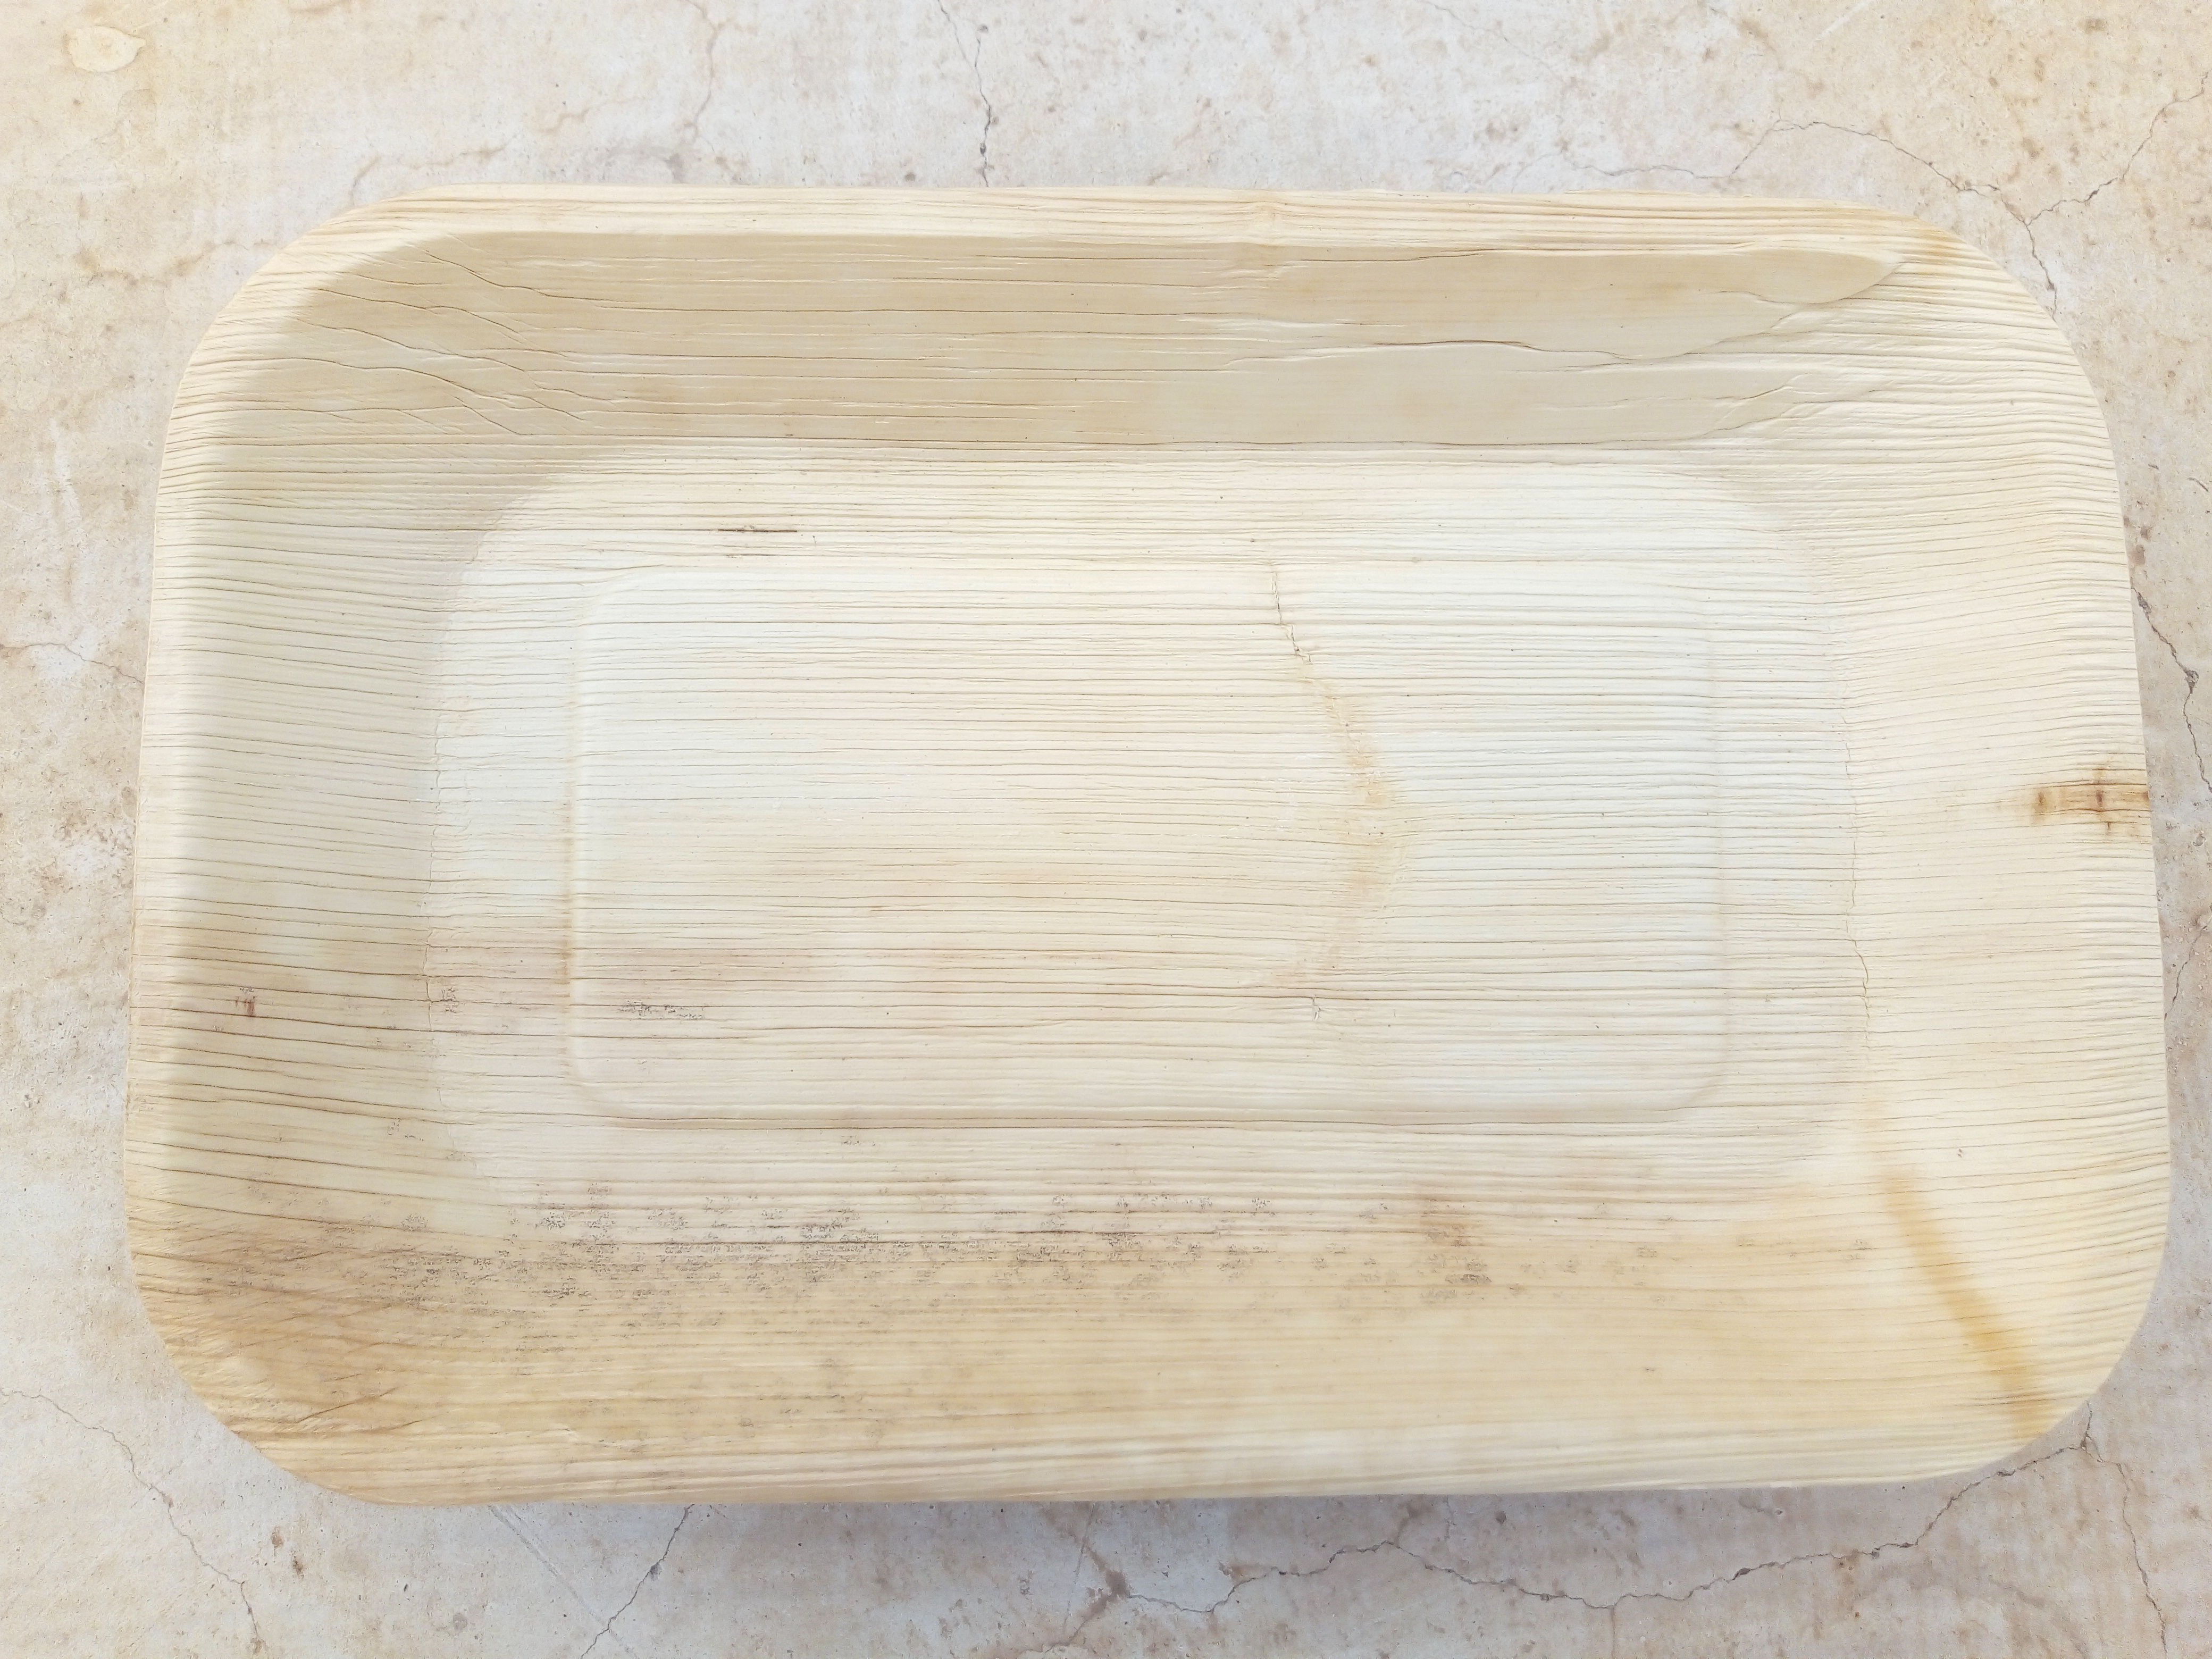areca plate: (127, 181, 2168, 1497)
